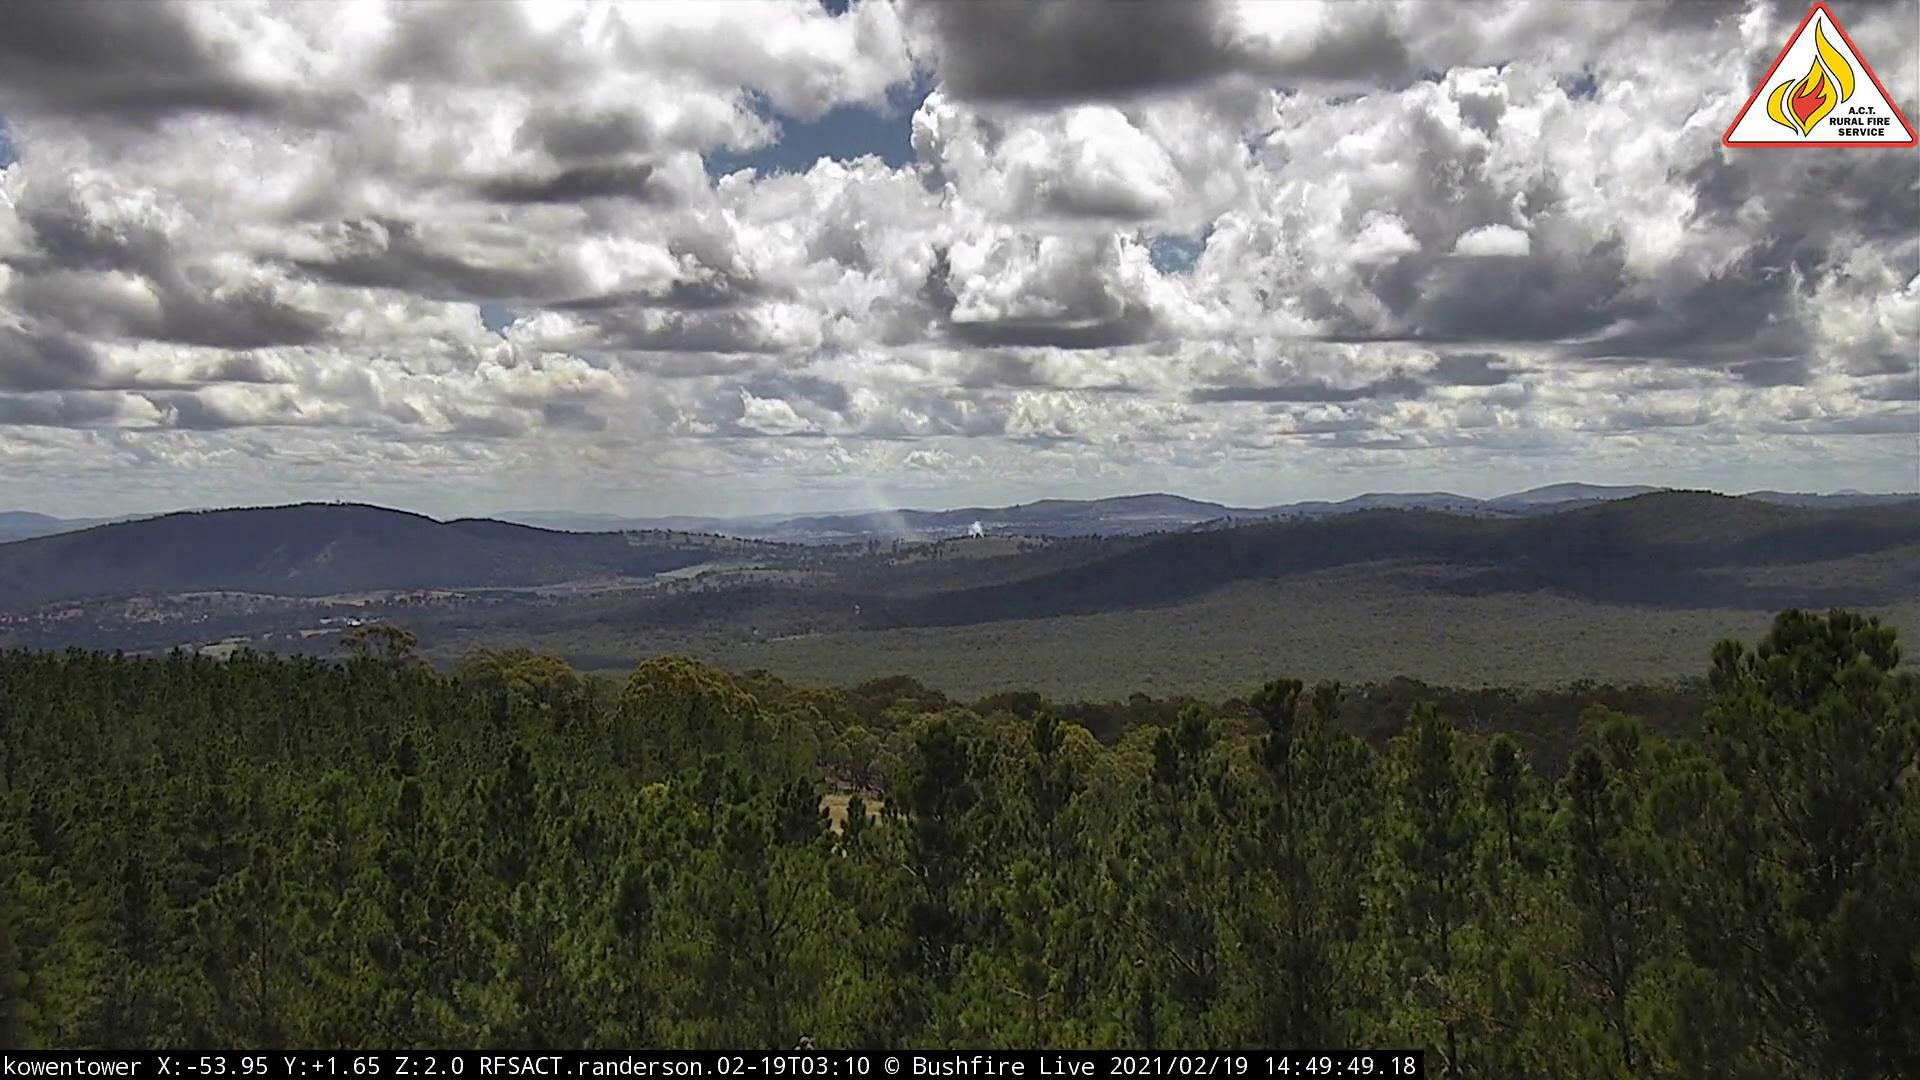Smoke: (547, 433, 953, 550)
